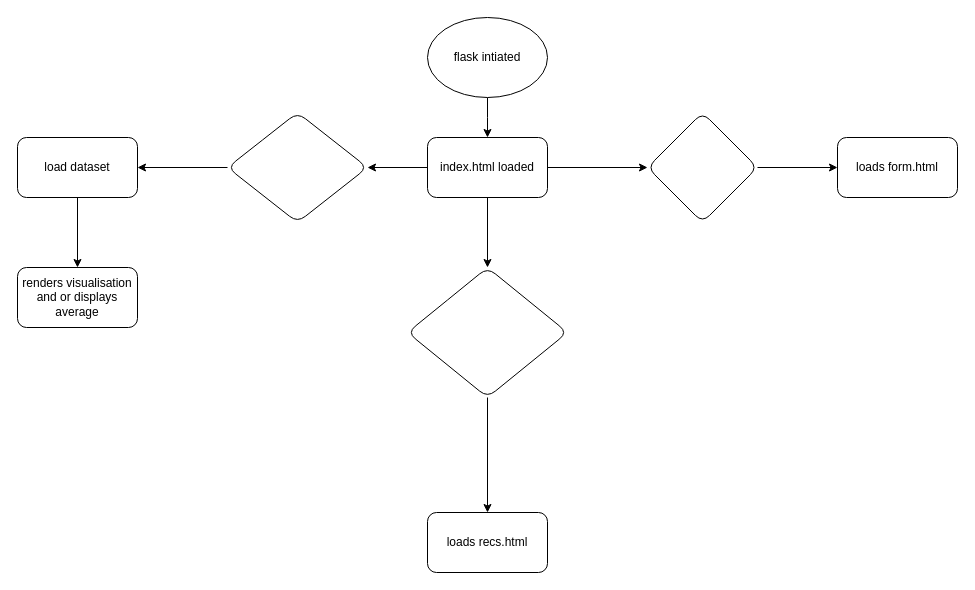
Some shapes in this 975 by 590 pixel diagram are drawn without their labels. The shapes that lost their labels are listed below. From the top down, each one's centre as x and y in pixels, then its label:
pixel 297 167: data analysis button clicked?
pixel 702 167: form buttom clicked?
pixel 487 332: recommendations button clicked?
